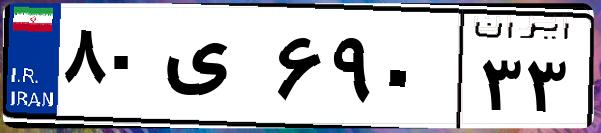0: (385, 28, 445, 110), (110, 28, 158, 98)
3: (475, 38, 525, 113), (525, 38, 570, 115)
6: (270, 28, 330, 110)
8: (57, 26, 110, 100)
9: (330, 28, 385, 110)
ی: (158, 20, 270, 120)
